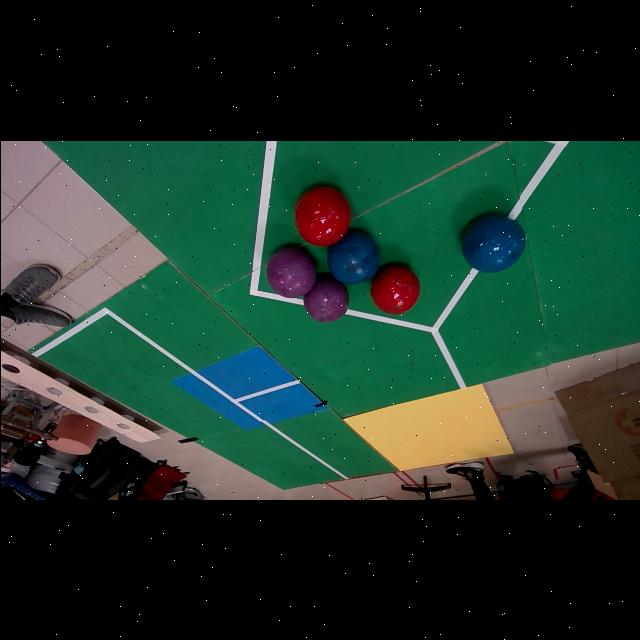B: (460, 213, 524, 273), (326, 230, 379, 284)
P: (265, 247, 316, 297), (302, 275, 349, 322)
R: (293, 186, 350, 246), (369, 264, 420, 314)
